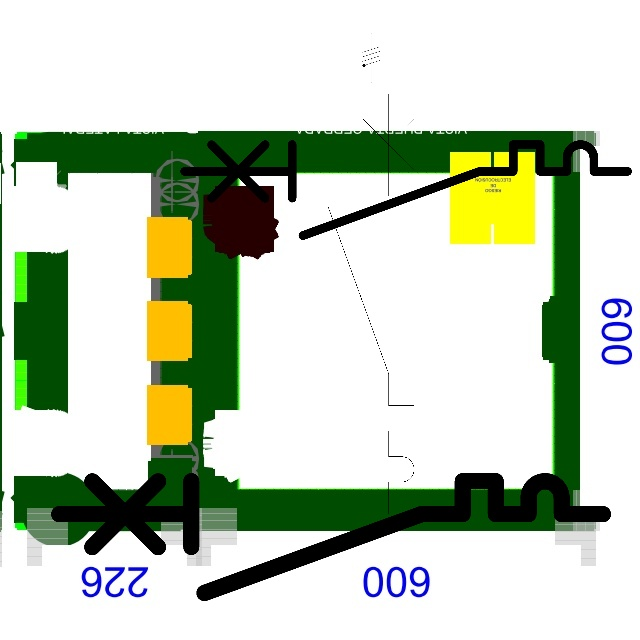interruptor_termomagnetico: (45, 467, 617, 607), (173, 133, 639, 247), (317, 83, 425, 525)
